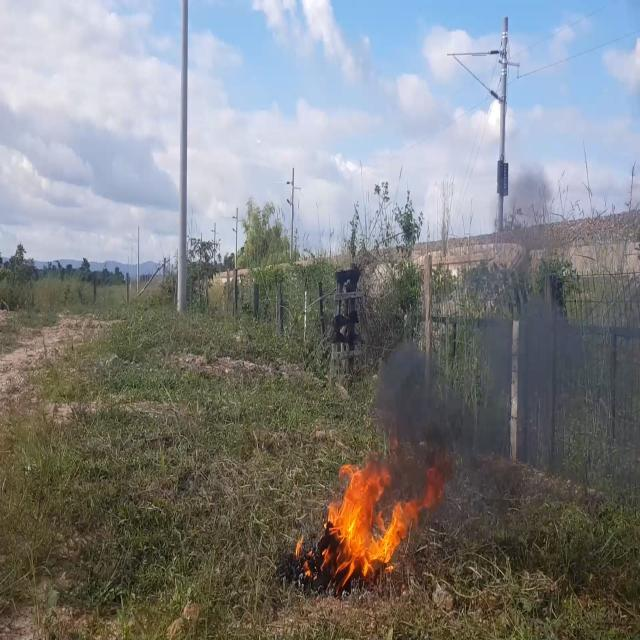Fire: (322, 442, 452, 594)
Smoke: (363, 290, 584, 497)
